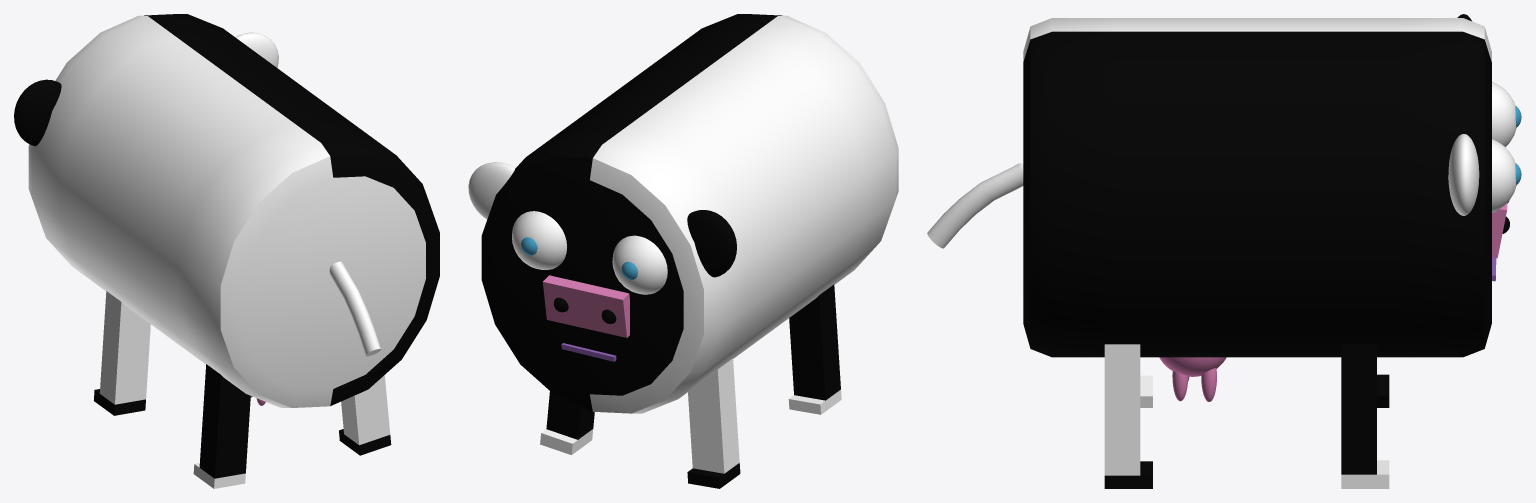
File: krowa.fbx
3 renders of one model, left to right at view 1: azimuth 30°, elevation 25°; view 2: azimuth 150°, elevation 25°; view 3: azimuth 270°, elevation 25°, orthographic. The views are drawn at different scales.
Parts seen in each view (by area): view 1: Cylinder004, krowa, Box422, Box423, Sphere150, Cylinder005, Sphere149; view 2: Cylinder004, krowa, Box422, Box425, Sphere150, Sphere147, Sphere145, Box421, Sphere149; view 3: Cylinder004, Box423, Box421, Cylinder005, Sphere149, Sphere145, Sphere147, Sphere151.
Boxes of the visible parts, x1,y1,x2,y2 form: Cylinder004: (28, 14, 439, 407); krowa: (94, 291, 150, 415); Box422: (193, 364, 250, 488); Box423: (339, 375, 391, 455); Sphere150: (14, 79, 61, 146); Cylinder005: (329, 261, 381, 356); Sphere149: (235, 32, 278, 67); Cylinder004: (481, 14, 898, 413); krowa: (687, 358, 740, 488); Box422: (788, 284, 841, 414); Box425: (542, 275, 629, 337); Sphere150: (687, 210, 736, 277); Sphere147: (612, 235, 667, 294); Sphere145: (512, 211, 566, 269); Box421: (540, 391, 594, 454); Sphere149: (468, 162, 515, 219); Cylinder004: (1023, 18, 1491, 357); Box423: (1104, 344, 1152, 488); Box421: (1341, 344, 1389, 488); Cylinder005: (927, 163, 1023, 248); Sphere149: (1448, 134, 1479, 215); Sphere145: (1492, 139, 1516, 212); Sphere147: (1492, 82, 1516, 146); Sphere151: (1159, 357, 1226, 376).
Bounding box in the file's own units: 17.66 × 22.04 × 29.12.
